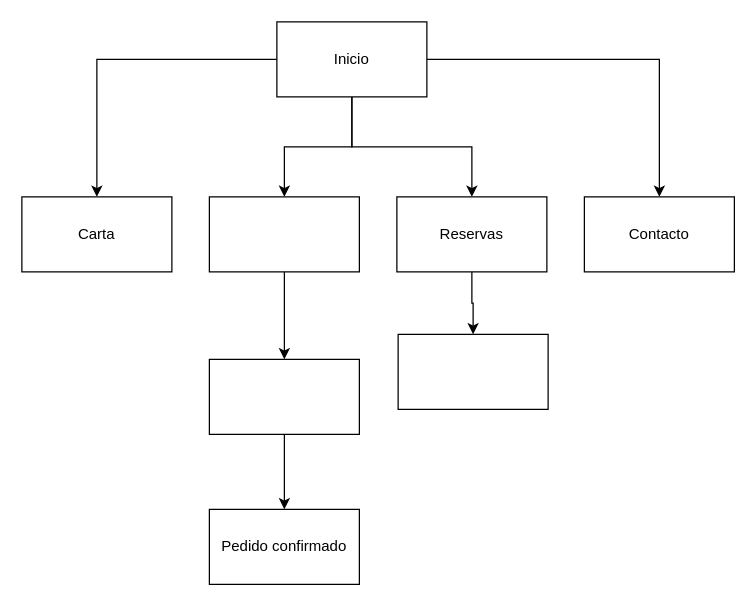
The diagram is 756 pixels wide and 606 high, and some of its shapes have lost their labels. Here are the shapes that lost their labels. From the top down, the centre of each, then its label:
the point at 283,234: Pedidos
the point at 472,371: Reserva confirmada
the point at 283,396: Carrito y pago
